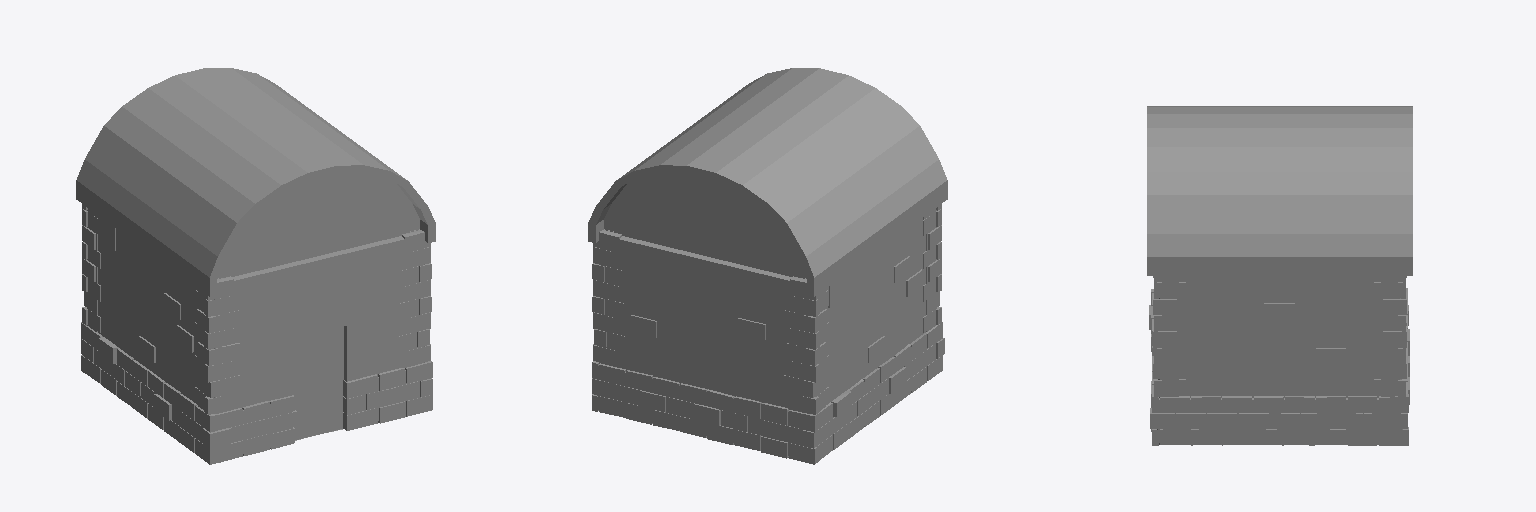
The model's file is 1Story_RoundRoof_Base.obj.
The picture shows the model from 3 angles: view 1: azimuth 30°, elevation 25°; view 2: azimuth 150°, elevation 25°; view 3: azimuth 270°, elevation 25°; orthographic projection.
Visible parts, largest first — view 1: 1Story_RoundRoof_Base_Cube.043; view 2: 1Story_RoundRoof_Base_Cube.043; view 3: 1Story_RoundRoof_Base_Cube.043.
Part boxes in pixels (left/top/right/bottom): 1Story_RoundRoof_Base_Cube.043: left=76, top=68, right=435, bottom=464; 1Story_RoundRoof_Base_Cube.043: left=588, top=68, right=947, bottom=464; 1Story_RoundRoof_Base_Cube.043: left=1147, top=106, right=1412, bottom=445.
Size of the model in its own units: 2.09 by 2.38 by 2.13.